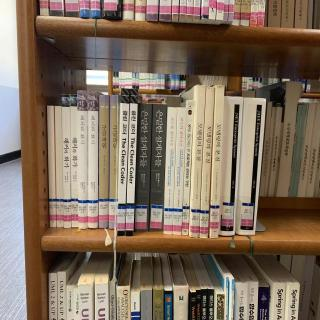book-spine: (235, 97, 266, 237), (216, 96, 244, 237), (148, 103, 167, 232), (190, 84, 206, 237), (134, 103, 152, 233), (210, 86, 225, 239), (200, 86, 215, 238), (116, 88, 130, 236), (125, 89, 138, 236), (163, 107, 177, 235), (182, 100, 195, 235), (77, 90, 89, 230), (173, 107, 186, 235), (108, 95, 120, 230), (97, 95, 109, 229), (88, 90, 99, 229), (62, 94, 72, 228), (47, 105, 57, 227), (54, 105, 64, 227), (70, 94, 78, 228)
